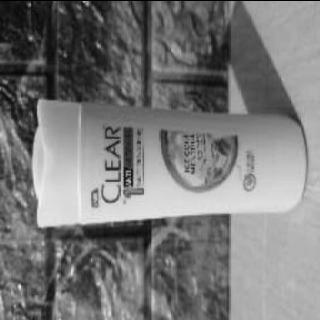objects: (34, 96, 304, 234)
